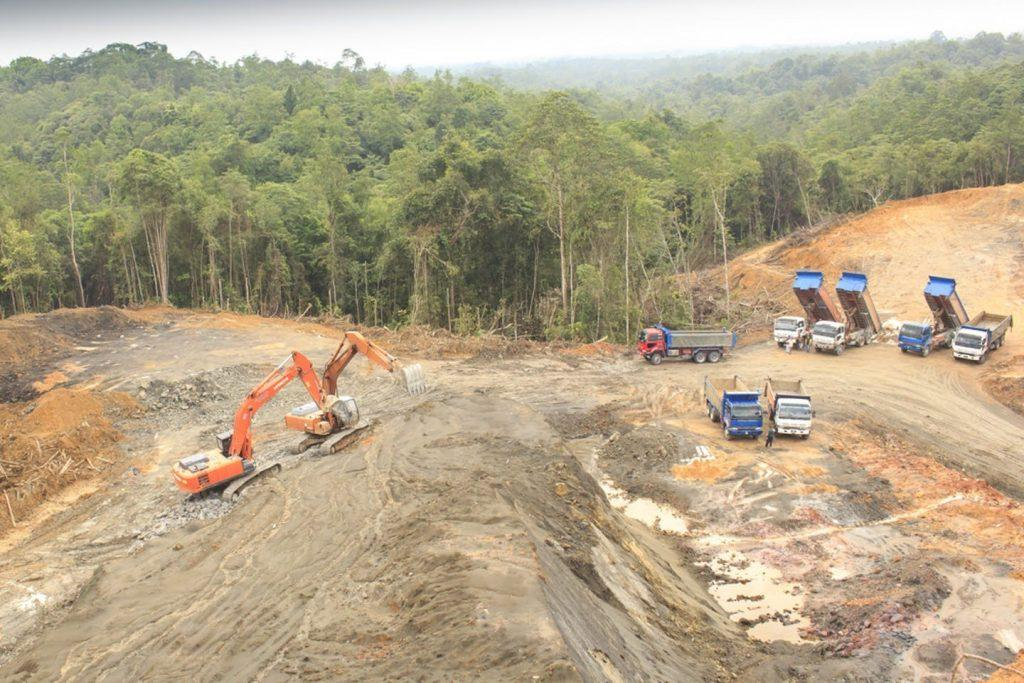ExcavationMachinery: (165, 349, 336, 504), (282, 329, 432, 474), (895, 273, 971, 357), (808, 270, 885, 351), (771, 264, 842, 351), (701, 376, 766, 448), (639, 323, 736, 366), (947, 308, 1013, 363), (763, 373, 814, 444)
Person: (764, 423, 775, 447)
